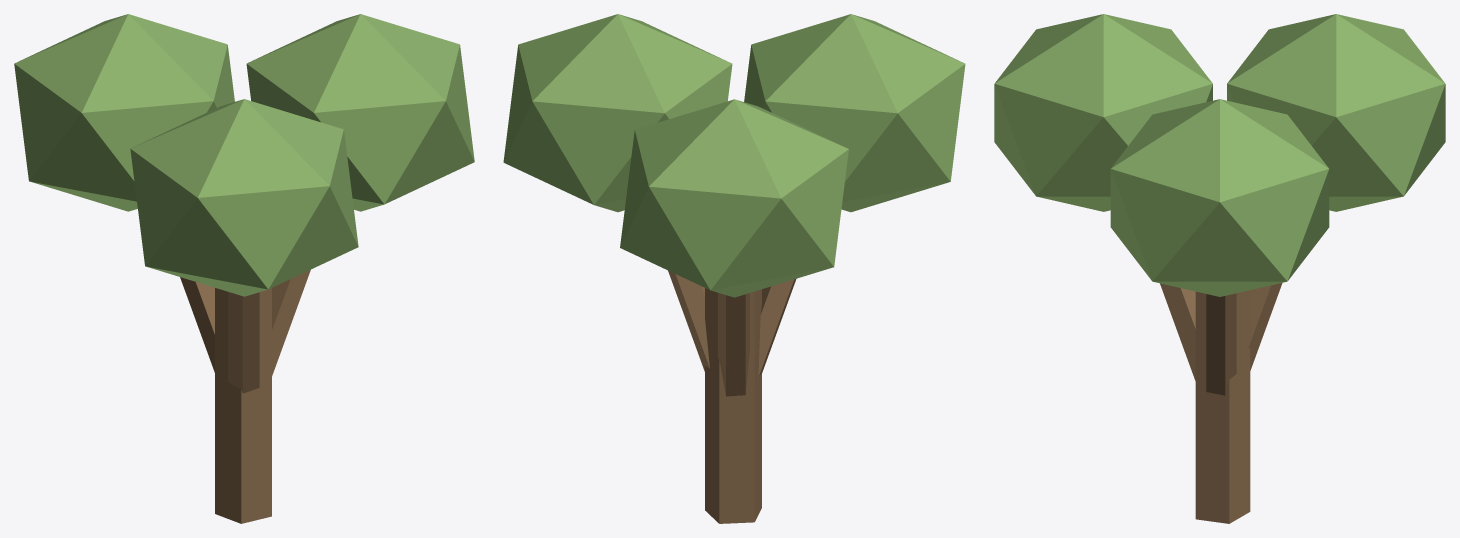
The model's file is plant_wild_apple_growing.glb.
3 renders of one model, left to right at view 1: azimuth 30°, elevation 25°; view 2: azimuth 150°, elevation 25°; view 3: azimuth 270°, elevation 25°, orthographic.
Parts seen in each view (by area): view 1: plant_wild_apple_growing; view 2: plant_wild_apple_growing; view 3: plant_wild_apple_growing.
Boxes of the visible parts, bbox=[...] form: plant_wild_apple_growing: bbox=[14, 14, 474, 523]; plant_wild_apple_growing: bbox=[503, 14, 965, 523]; plant_wild_apple_growing: bbox=[994, 14, 1445, 523].
Bounding box in the file's own units: 0.6424 × 0.7717 × 0.672.
